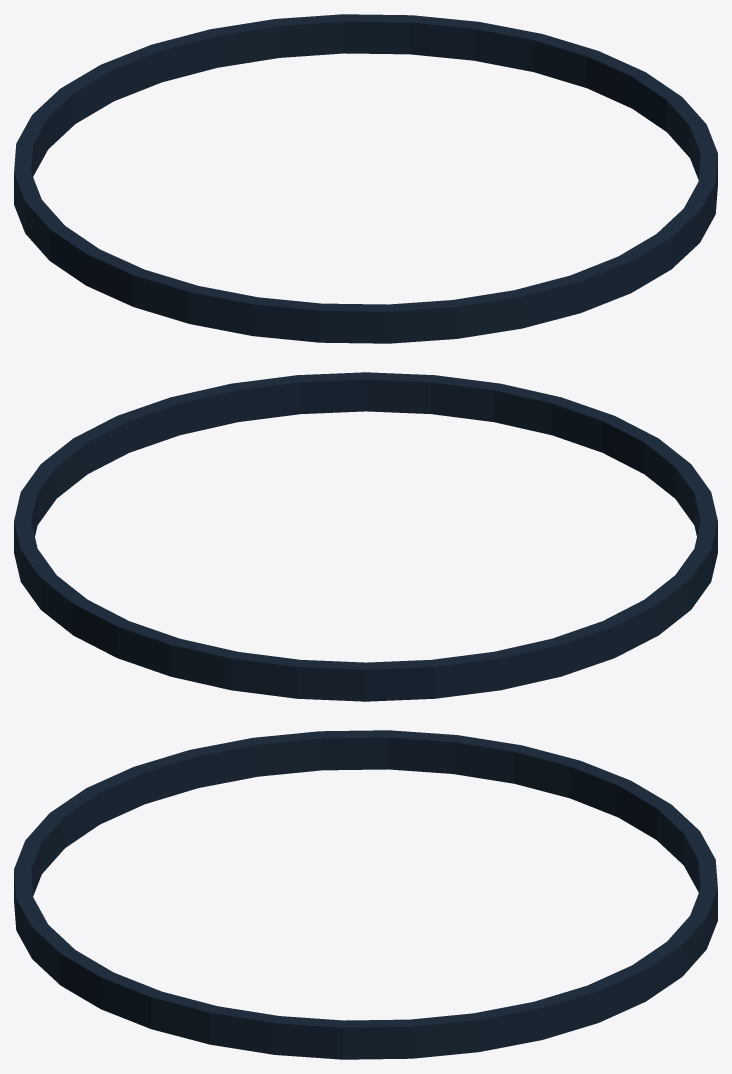
The model's file is Habitat_5_LODGroup.fbx.
3 views of the same model, one above another, from view 1: azimuth 30°, elevation 25°; view 2: azimuth 150°, elevation 25°; view 3: azimuth 270°, elevation 25° (orthographic).
Parts seen in each view (by area): view 1: Habitat 5_LOD0; view 2: Habitat 5_LOD0; view 3: Habitat 5_LOD0.
Boxes of the visible parts, x1,y1,x2,y2 form: Habitat 5_LOD0: (14,14,717,343); Habitat 5_LOD0: (14,372,717,701); Habitat 5_LOD0: (14,730,717,1059).
Size of what is drawn, in the model's own units: 259 by 12.95 by 259.
